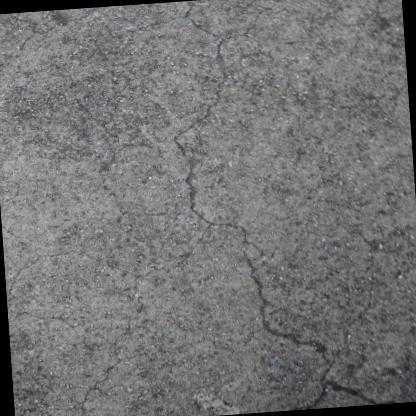crack: (170, 0, 382, 409)
